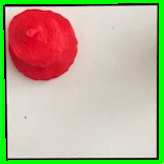Red King: (6, 6, 84, 83)
